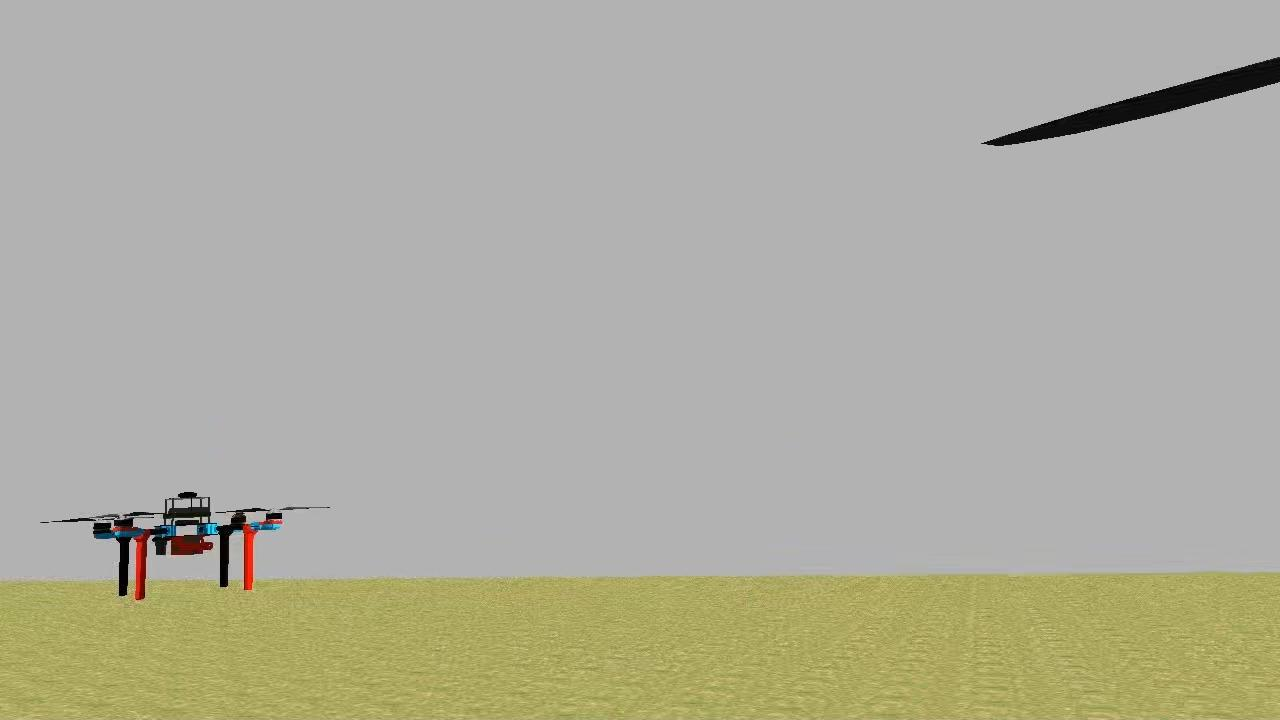UAV: (90, 486, 290, 604)
